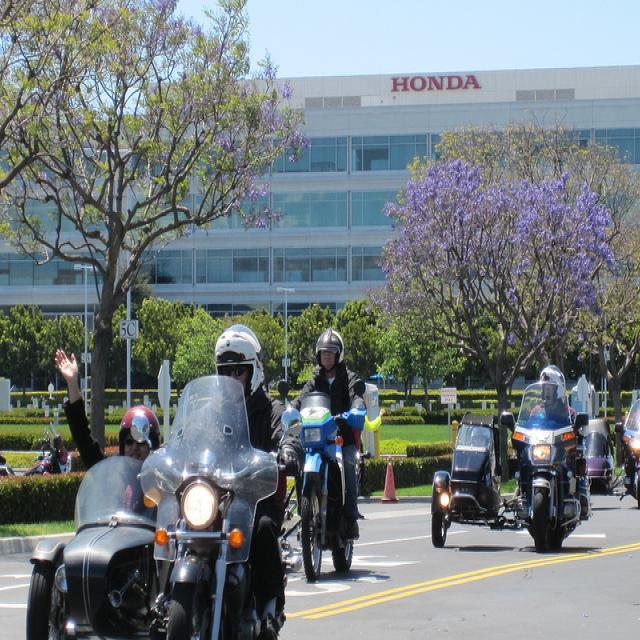motor: (140, 375, 279, 632), (25, 411, 158, 636), (278, 377, 369, 587), (506, 384, 588, 547), (431, 421, 508, 546), (622, 394, 640, 507), (43, 457, 55, 474)
